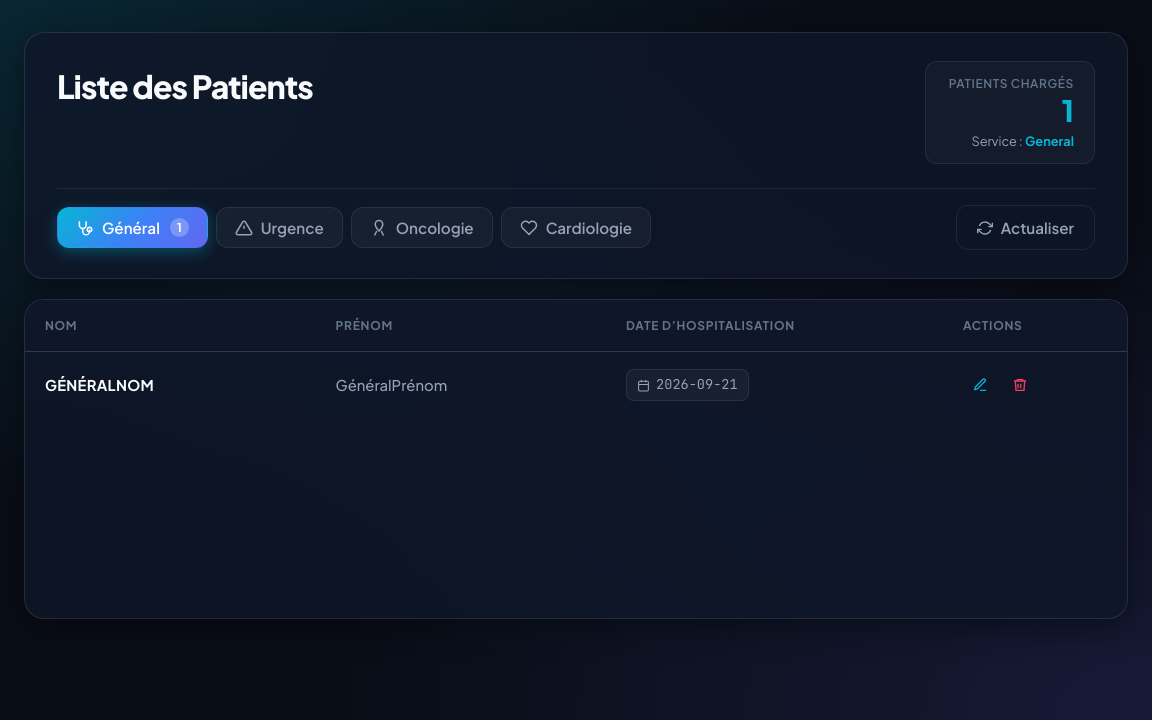
Scenario: PatientsView service tabs › urgence tab selects the service and renders its patient data
Click the tab with id "tab-urgence" at point(279, 228), box x1=216 y1=207 x2=343 y2=248
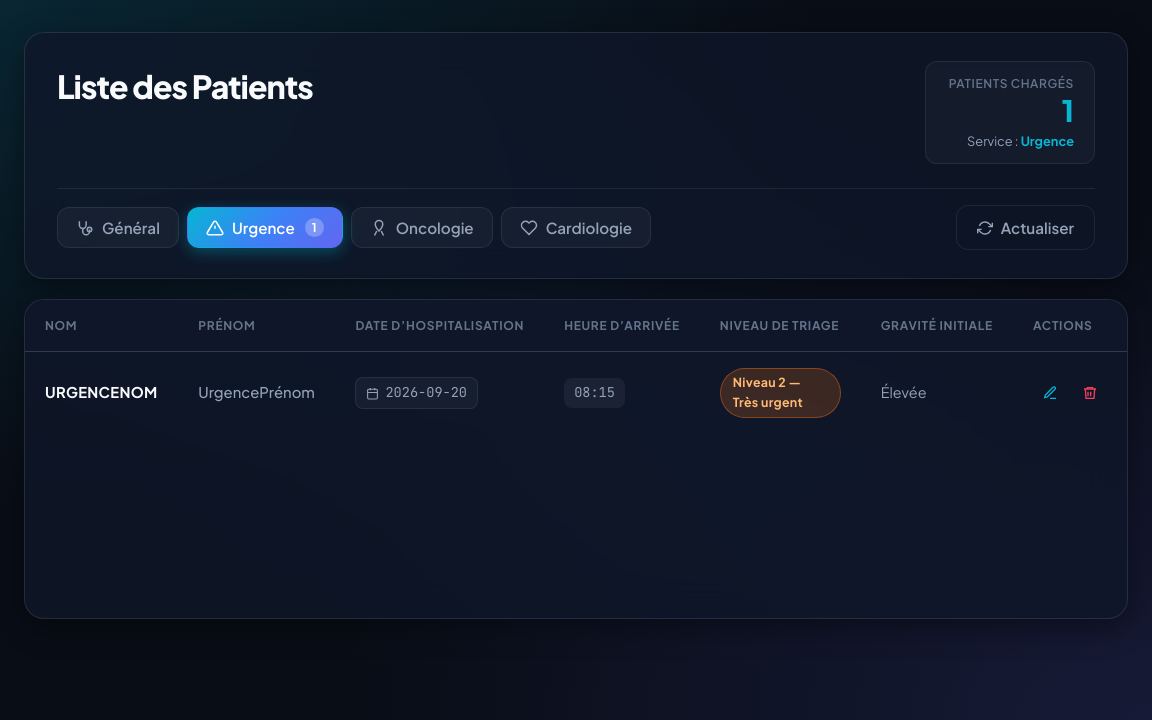
expect the tab with id "tab-urgence" shows "Urgence": met, box x1=187 y1=207 x2=343 y2=248
expect the table shows "UrgencePrénom": met, box x1=198 y1=384 x2=315 y2=402
expect the table shows "08:15": met, box x1=574 y1=383 x2=615 y2=401
